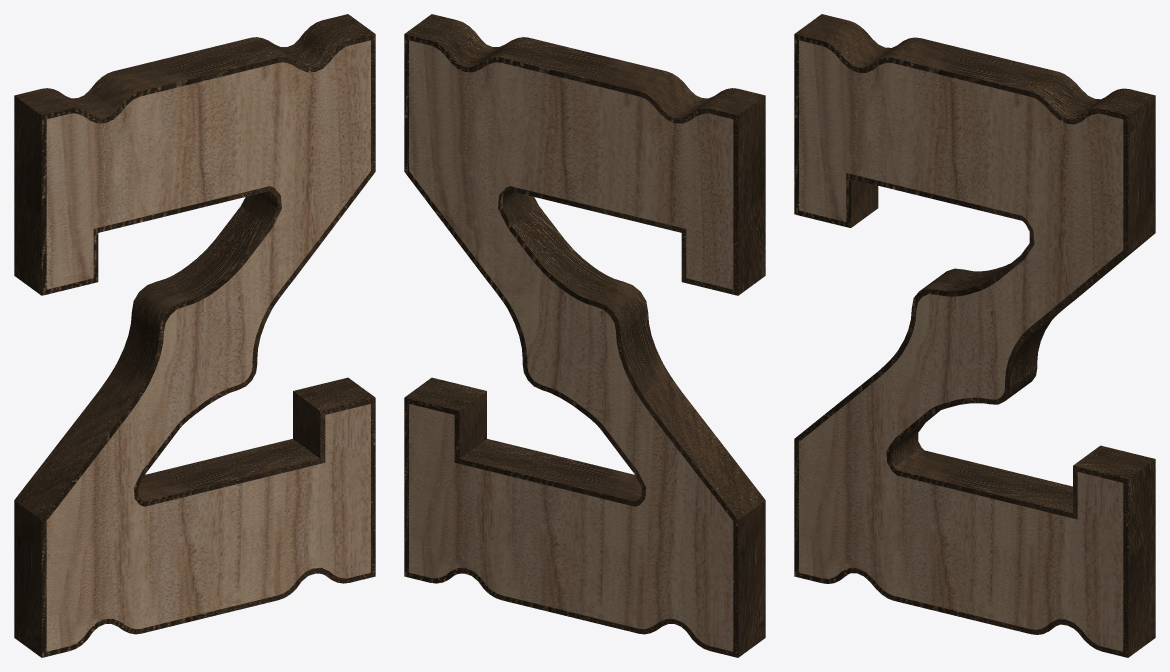
3 renders of one model, left to right at view 1: azimuth 30°, elevation 25°; view 2: azimuth 150°, elevation 25°; view 3: azimuth 330°, elevation 25°, orthographic.
Visible parts, largest first — view 1: Z, Z_outline; view 2: Z, Z_outline; view 3: Z, Z_outline.
Part boxes in pixels (x1,y1,x2,y2): Z: (46,40,370,651); Z_outline: (14,14,375,657); Z: (409,40,733,651); Z_outline: (404,14,765,657); Z: (799,40,1123,651); Z_outline: (794,14,1155,657).
Size of the model in its own units: 70.1 by 109 by 10.
Materials: 2 (2 with a texture image).
